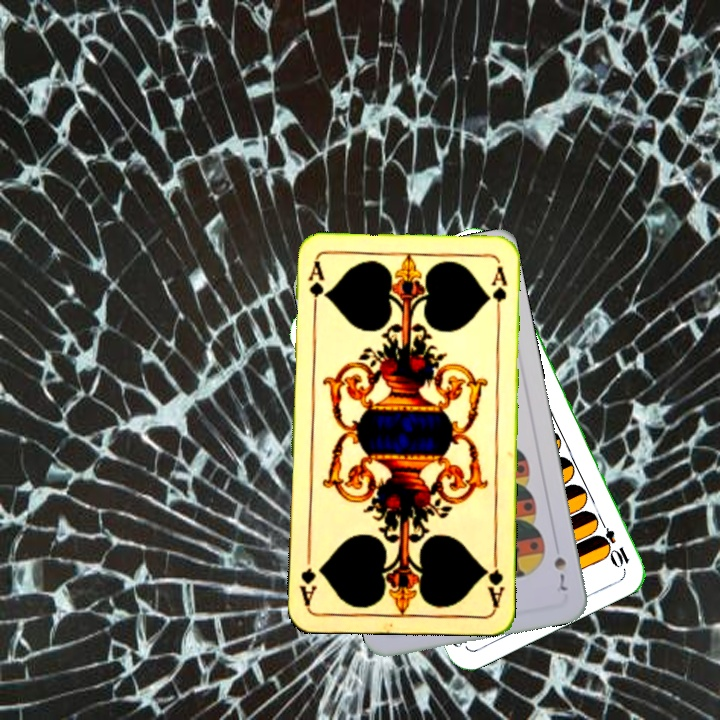E10: (593, 514, 632, 569)
GA: (480, 550, 507, 609), (304, 257, 326, 316)
S7: (550, 553, 570, 594)
